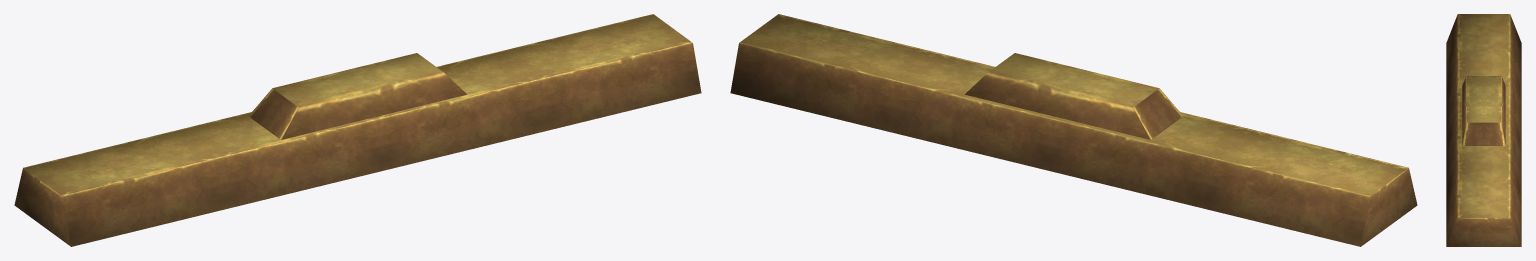
Rendered from G_hulan005.fbx.
The picture shows the model from 3 angles, left to right: view 1: azimuth 30°, elevation 25°; view 2: azimuth 150°, elevation 25°; view 3: azimuth 270°, elevation 25°; orthographic projection. The views are drawn at different scales.
Parts seen in each view (by area): view 1: G_hulan005; view 2: G_hulan005; view 3: G_hulan005.
Part boxes in pixels (left/top/right/bottom): G_hulan005: left=14, top=14, right=701, bottom=246; G_hulan005: left=730, top=14, right=1417, bottom=246; G_hulan005: left=1446, top=14, right=1521, bottom=246.
Bounding box in the file's own units: 329 × 34.44 × 51.34.
